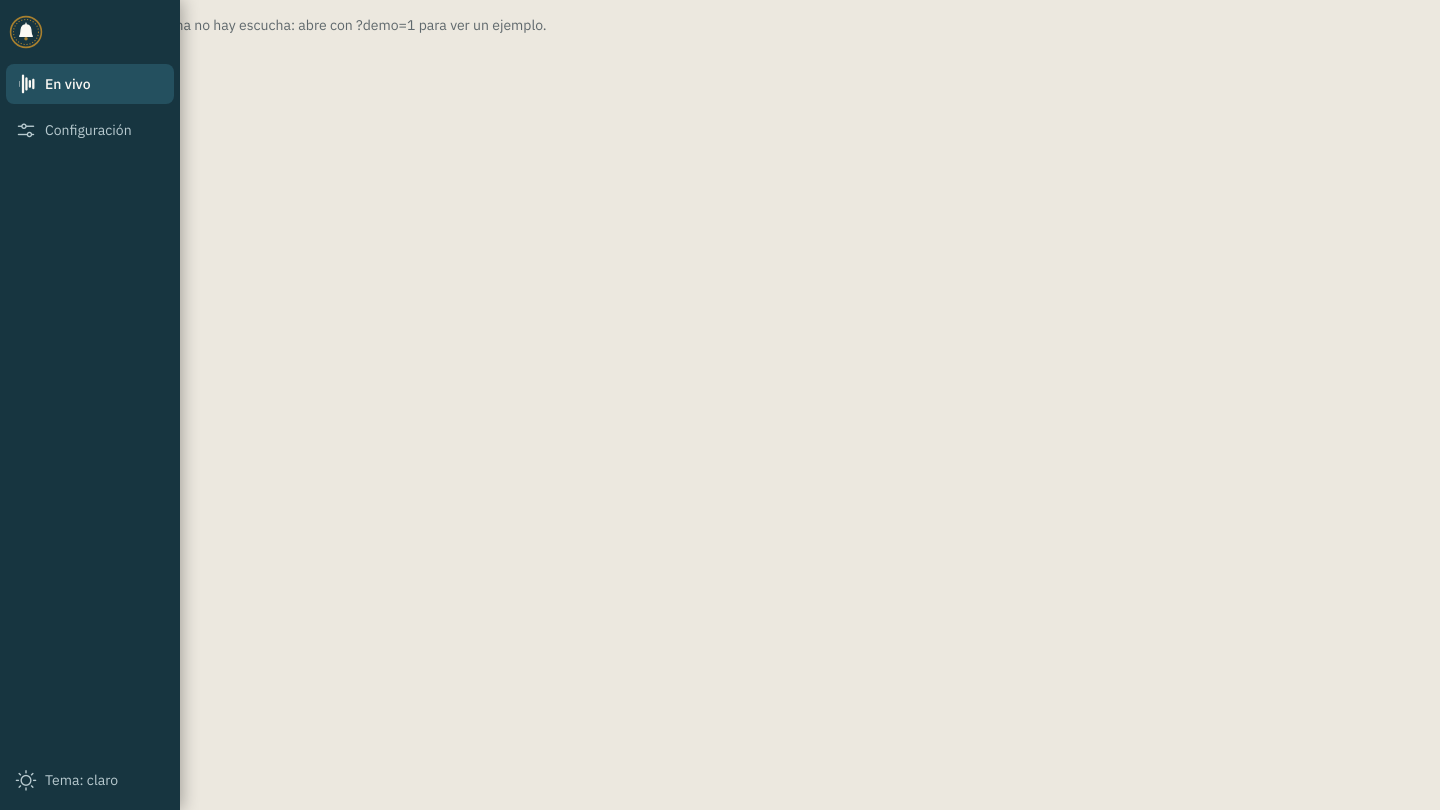
Test: App › navega por los dos modulos desde la barra
The image size is (1440, 810).
Expected: the text "abre con ?demo=1" is shown, [68,16,547,34]
Click the button "Configuración" at coordinates (90, 130), box [6,110,174,150]
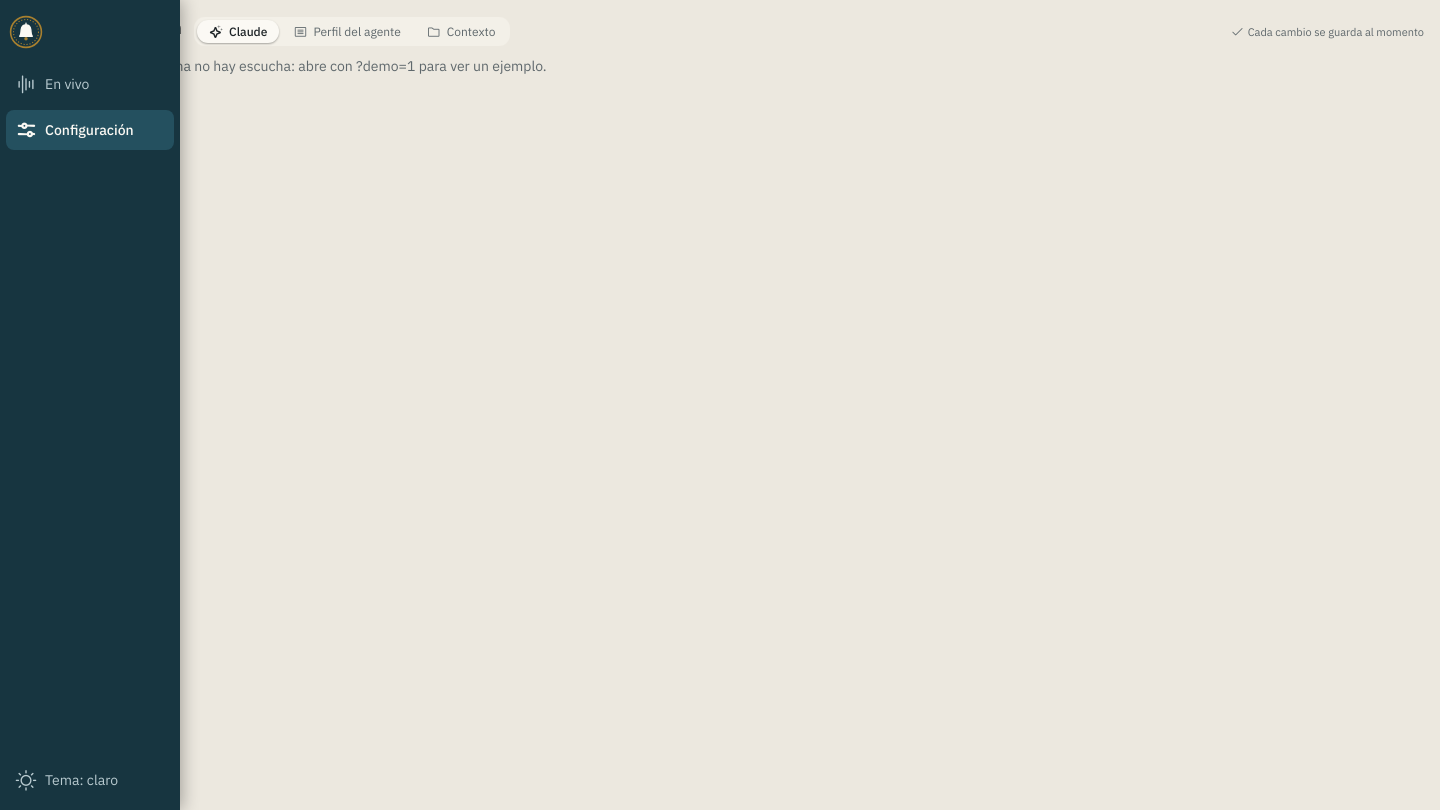
Expected: the heading "Configuración" is shown, [68,16,182,39]
